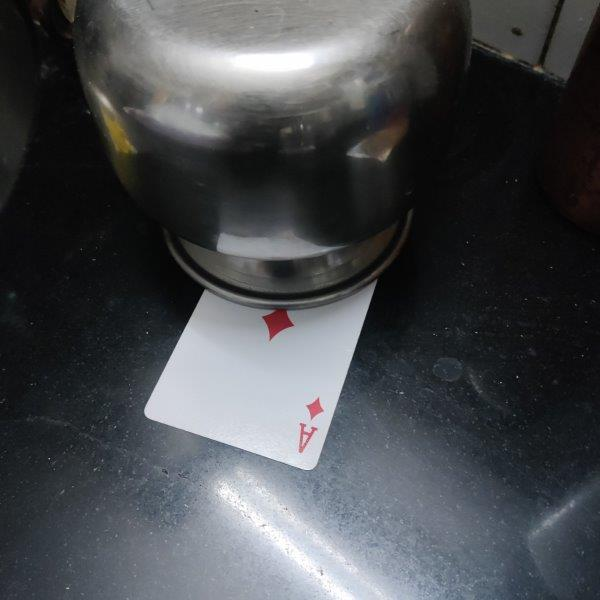Ace of Diamonds: (143, 279, 379, 471)
